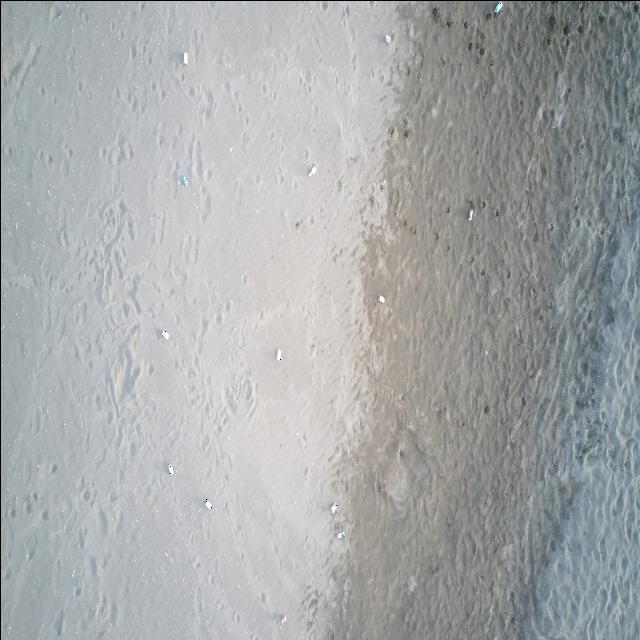Garbage: (307, 164, 316, 176), (493, 2, 503, 12), (160, 329, 168, 340), (279, 612, 286, 624), (204, 497, 212, 507), (336, 531, 346, 539), (384, 33, 392, 43), (181, 51, 187, 64), (179, 175, 187, 184), (329, 502, 336, 512), (467, 208, 472, 220), (377, 295, 384, 303), (167, 464, 173, 473), (276, 348, 280, 360)
